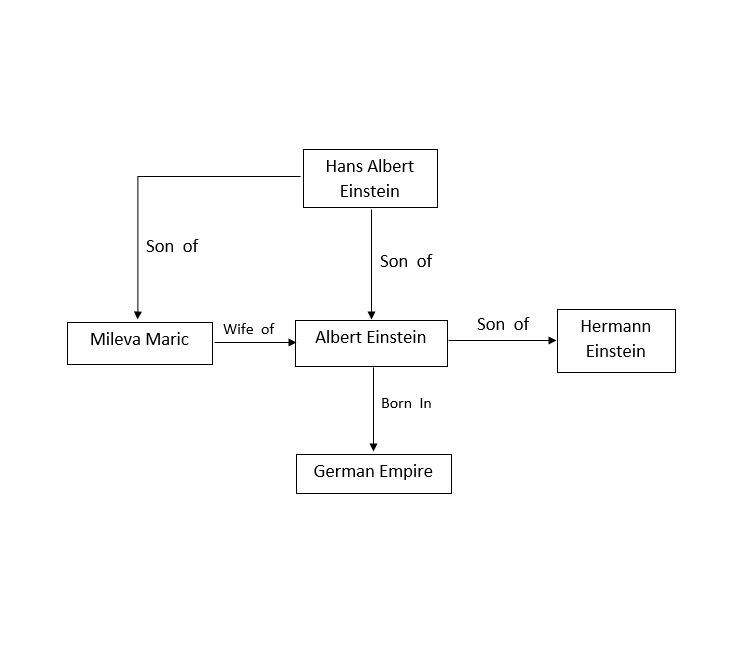arrow: (130, 171, 306, 322), (449, 333, 559, 347), (365, 206, 378, 317), (211, 334, 298, 349), (367, 363, 381, 451)
process: (298, 146, 441, 213), (554, 306, 680, 377), (293, 317, 450, 369), (292, 450, 457, 498), (63, 319, 217, 367)
text: (325, 157, 417, 199), (577, 316, 653, 362), (313, 459, 435, 481), (313, 326, 427, 349), (88, 329, 191, 350), (141, 236, 204, 257), (474, 314, 533, 334), (378, 252, 438, 271), (221, 318, 278, 338), (377, 395, 434, 410)
